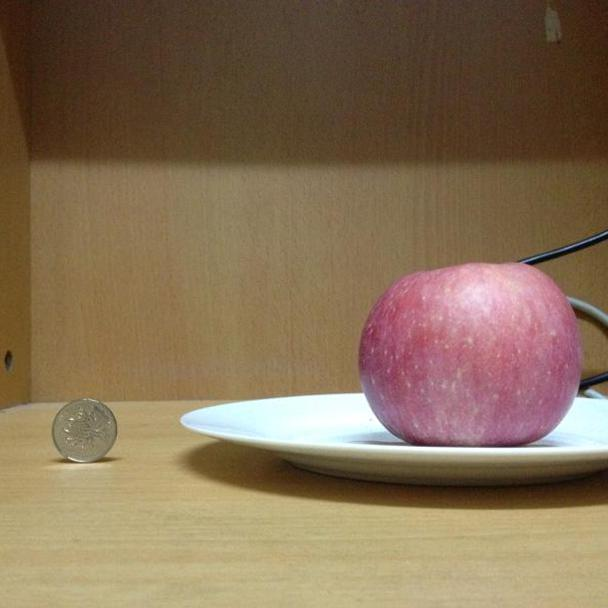apple: (358, 260, 581, 448)
